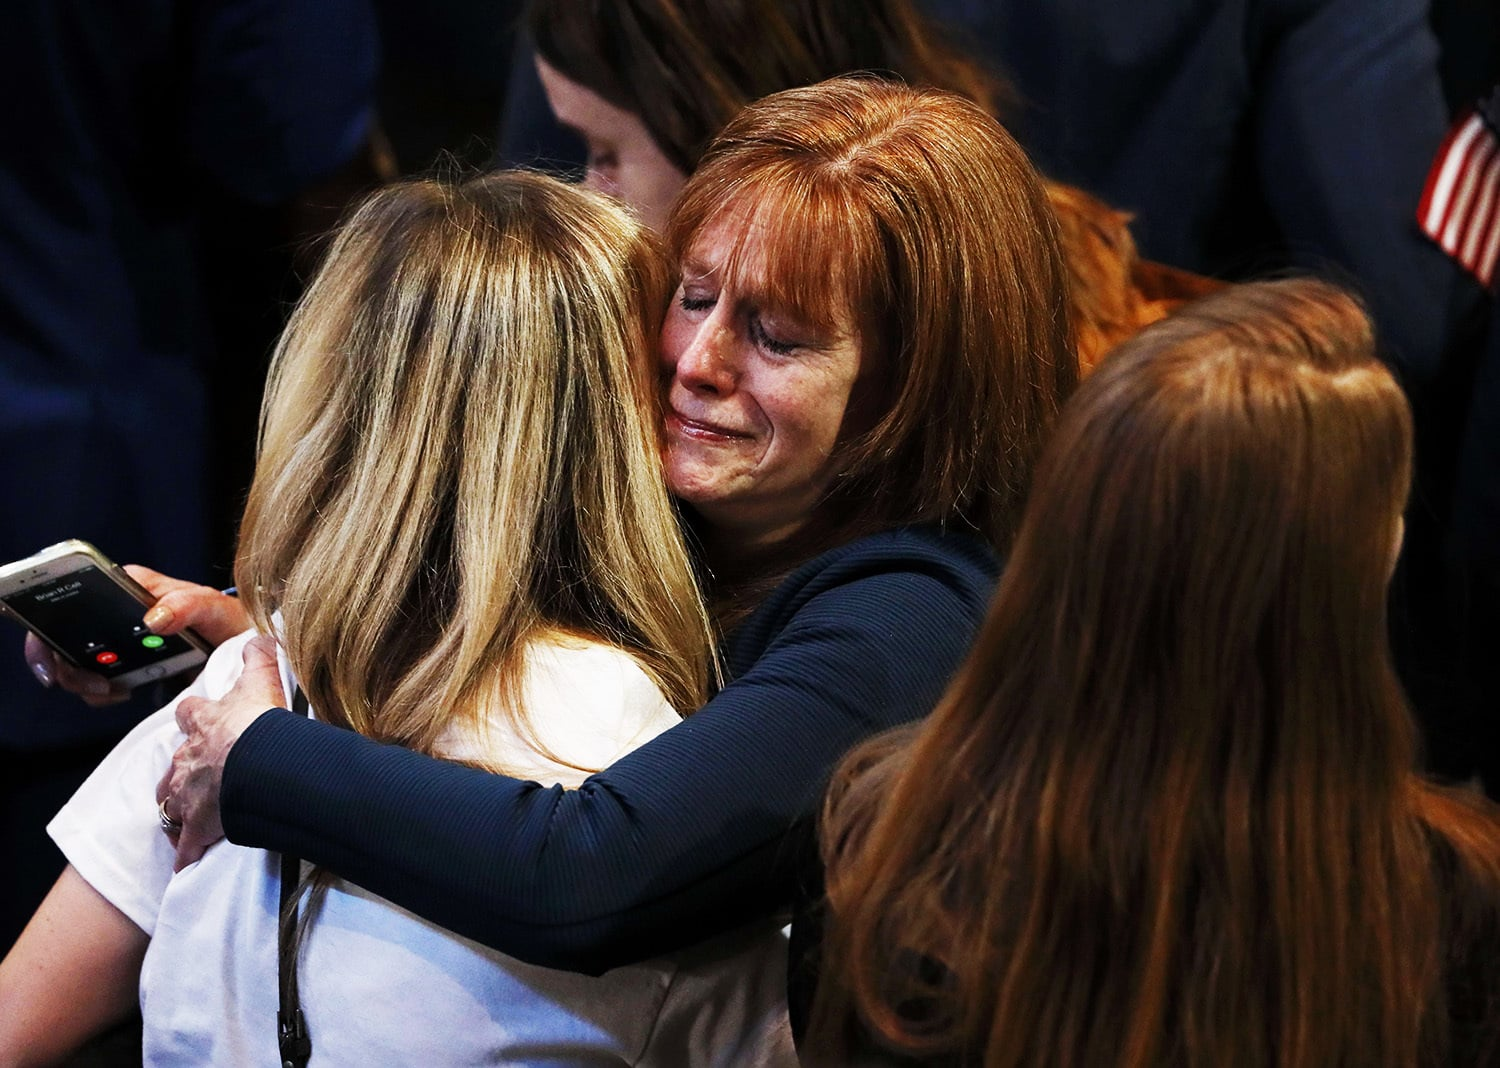sad: (619, 190, 873, 520)
